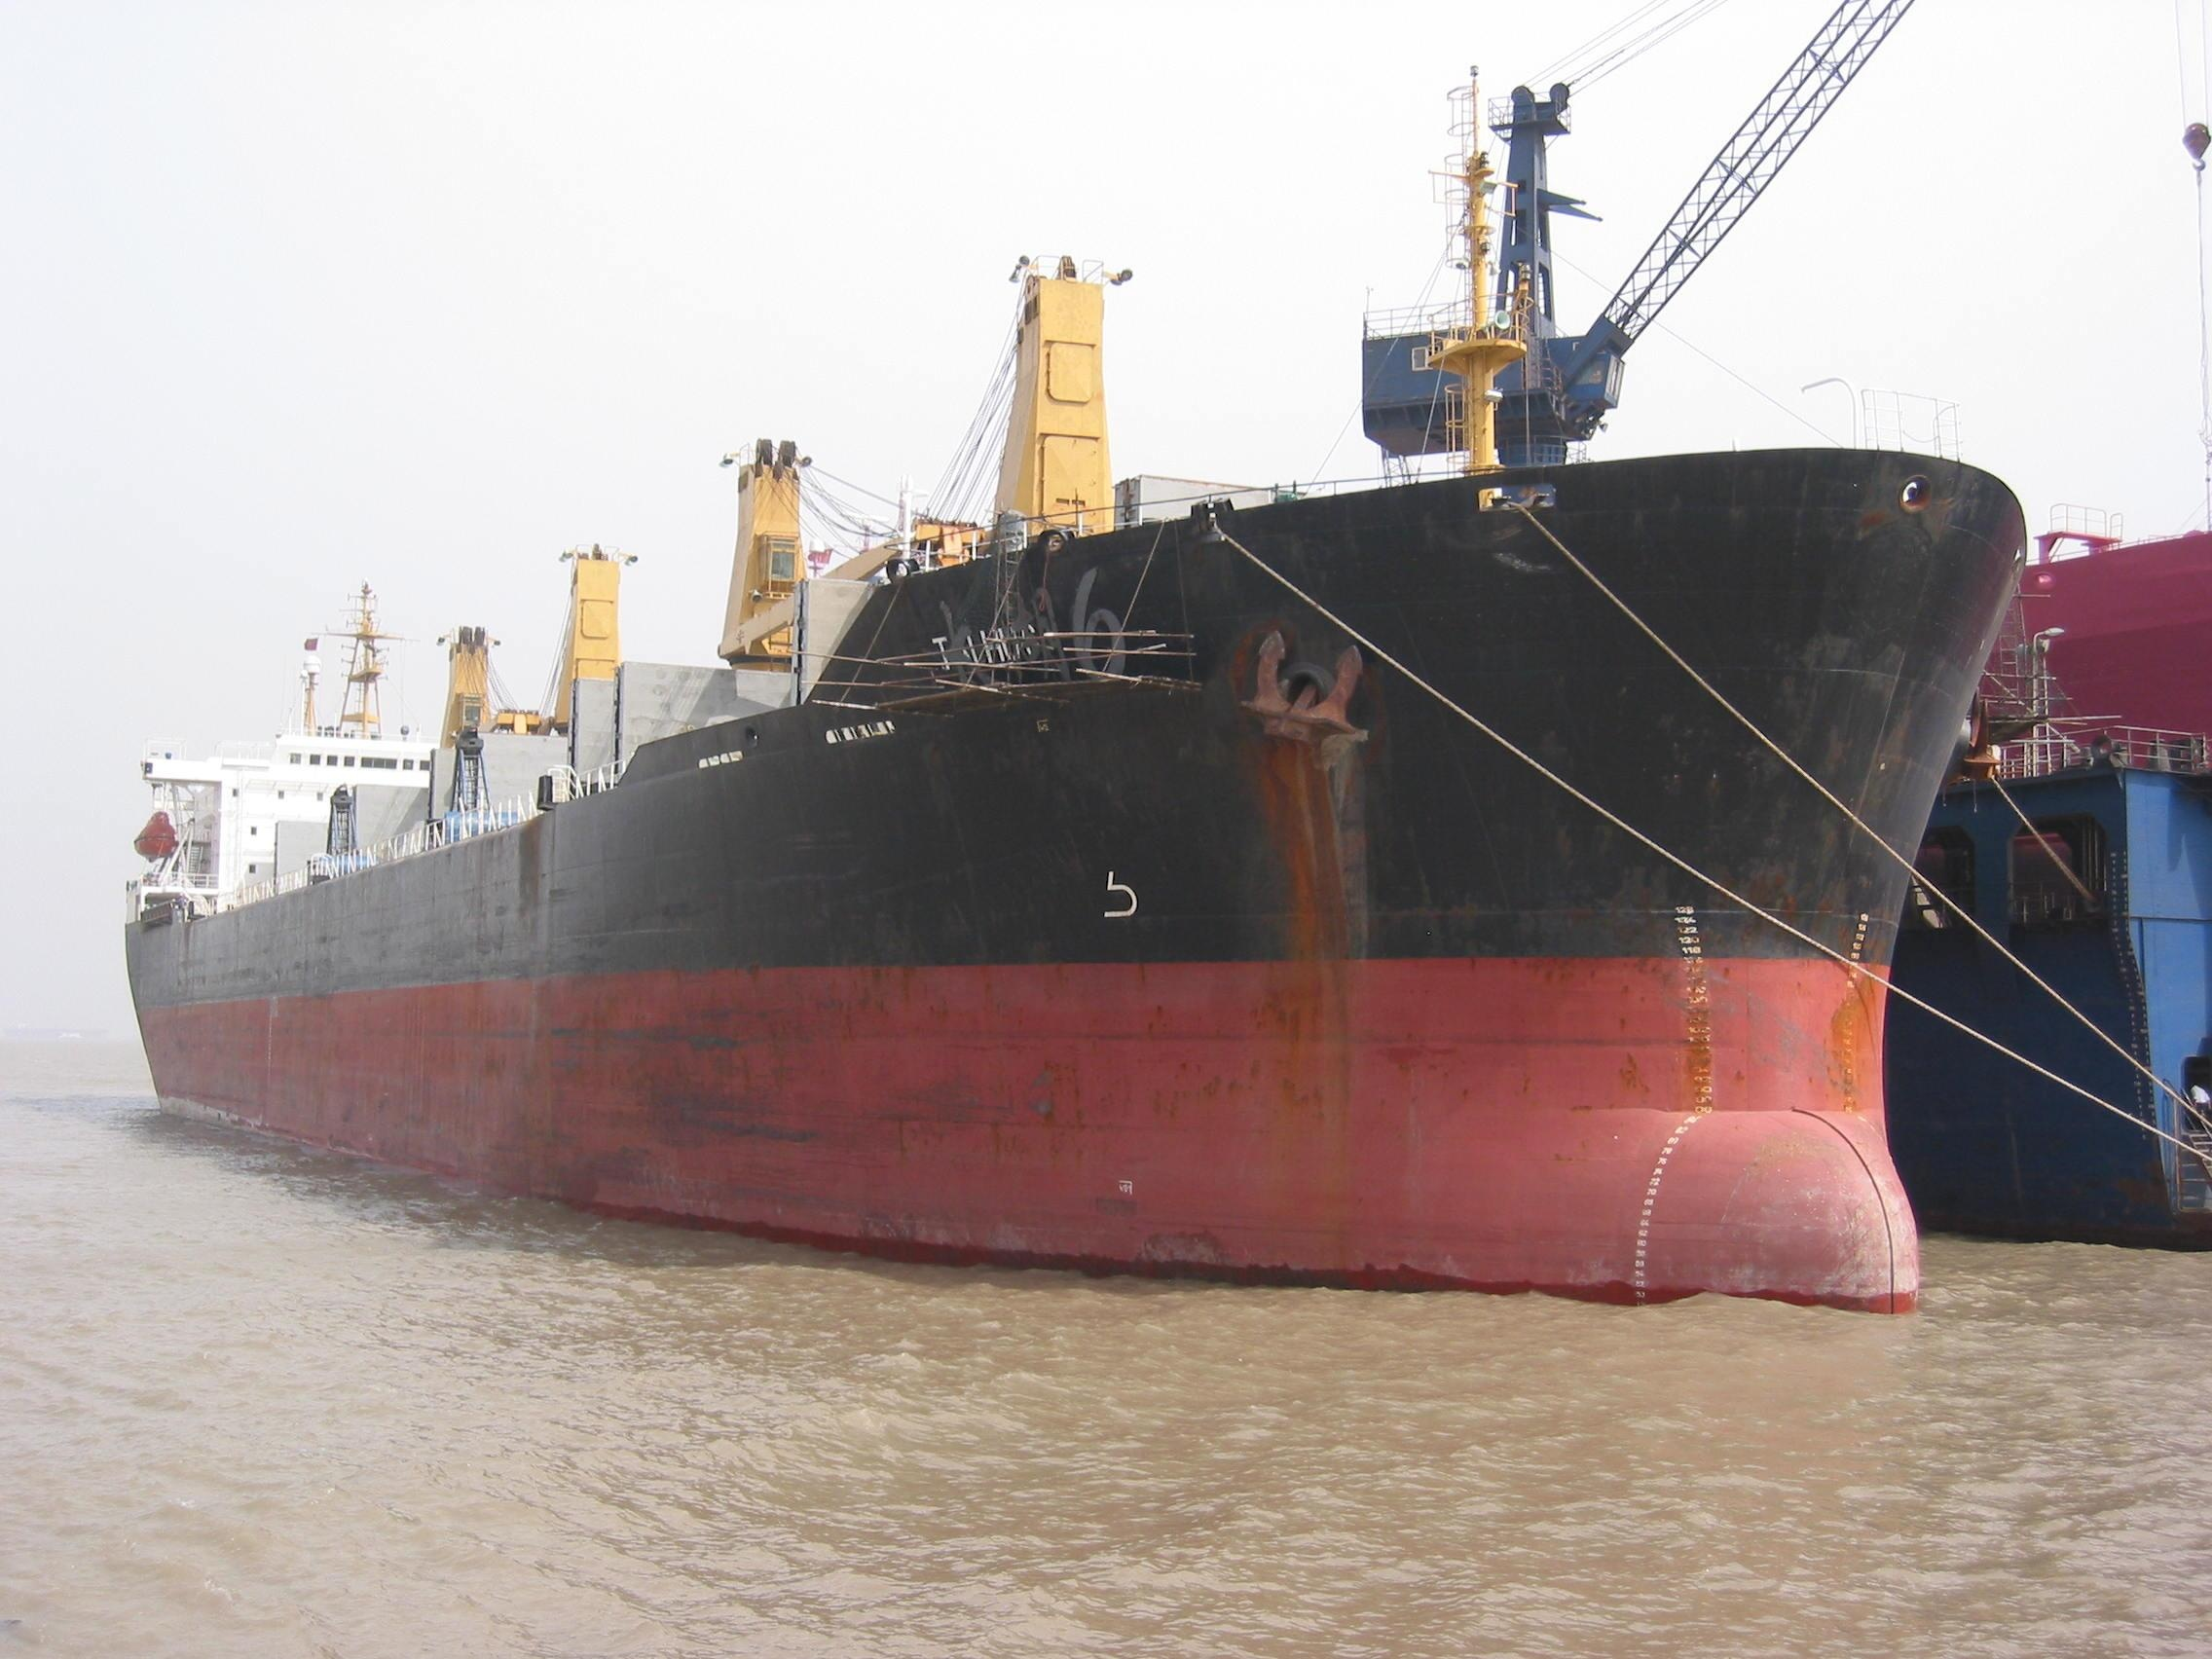Cargoship: (117, 9, 2036, 1321)
